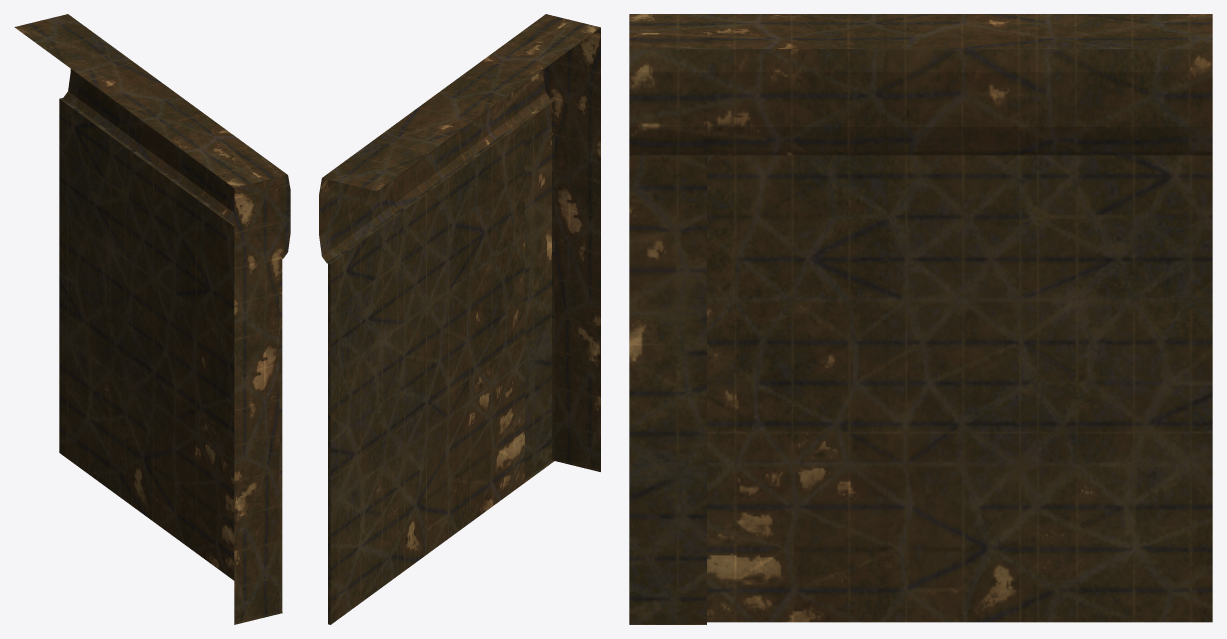
Rendered from wallPrefab1x1-noSideNoBottomFrameModEdit.fbx.
The picture shows the model from 3 angles, left to right: view 1: azimuth 30°, elevation 25°; view 2: azimuth 150°, elevation 25°; view 3: azimuth 270°, elevation 25°; orthographic projection. The views are drawn at different scales.
Visible parts, largest first — view 1: wallPrefab1x1; view 2: wallPrefab1x1; view 3: wallPrefab1x1.
Part boxes in pixels (box(x1,y1,x2,y2)): wallPrefab1x1: box(14, 14, 290, 624); wallPrefab1x1: box(319, 14, 600, 624); wallPrefab1x1: box(629, 14, 1212, 624).
Size of the model in its own units: 25.03 by 185 by 168.
